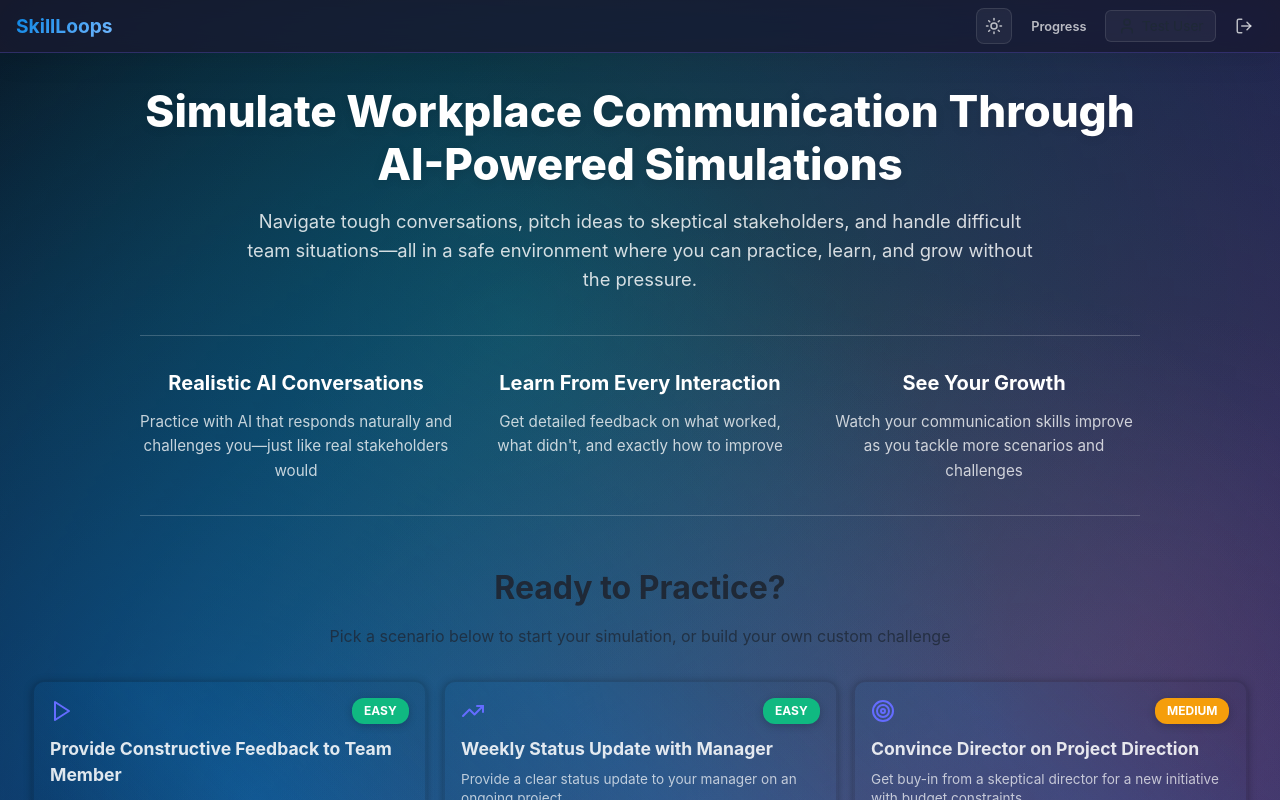
Test: Scenario Selection and Simulation Integration Tests › should display scenario context in sidebar during simulation
Check: the heading "Ready to Practice?" is shown, box [494,568,786,607]
// Select and start a scenario
Click the heading "Provide Constructive Feedback to Team Member" at (221, 748), box [50,736,409,789]
(page scrolled)
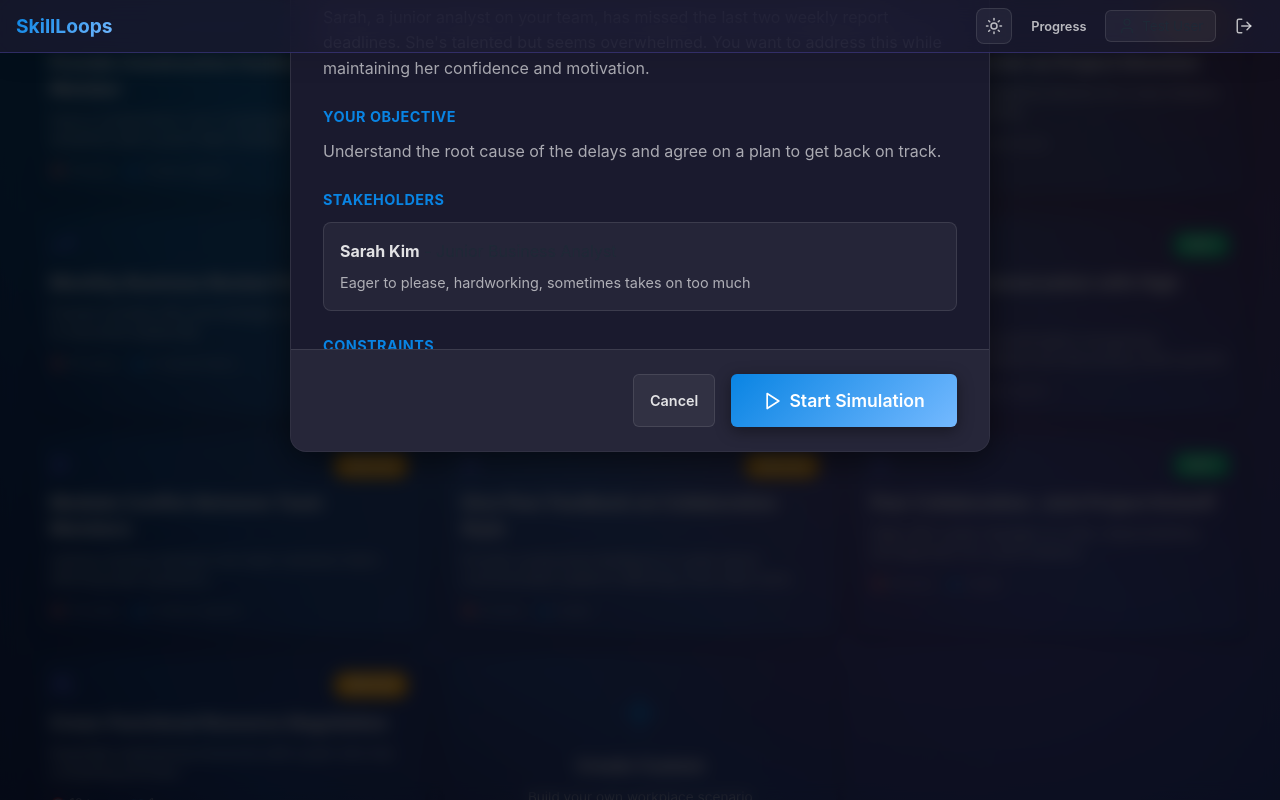
Check: the button "Start Simulation" is shown
Click the button "Start Simulation" at (844, 400), box [731,374,957,427]
(page scrolled)
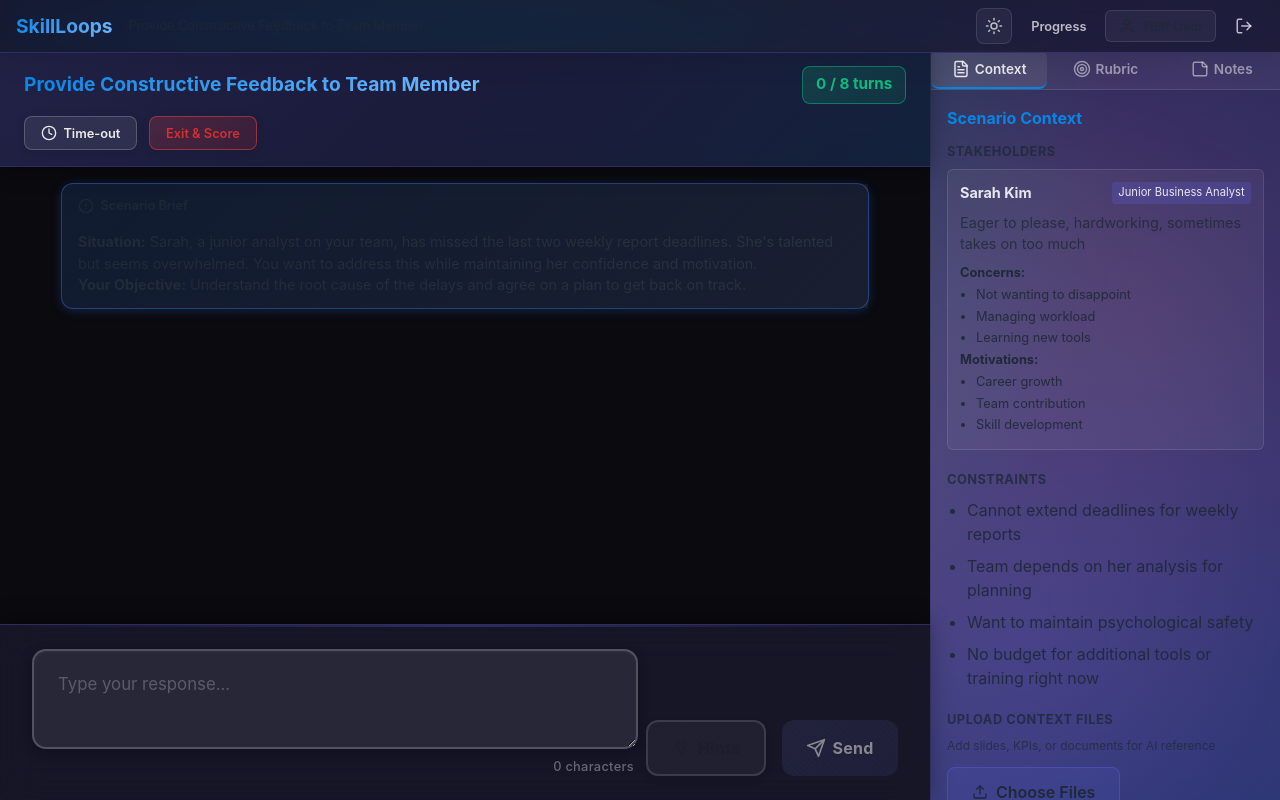
Check: the text "0 / 8 turns" is shown, box [802,66,906,104]
